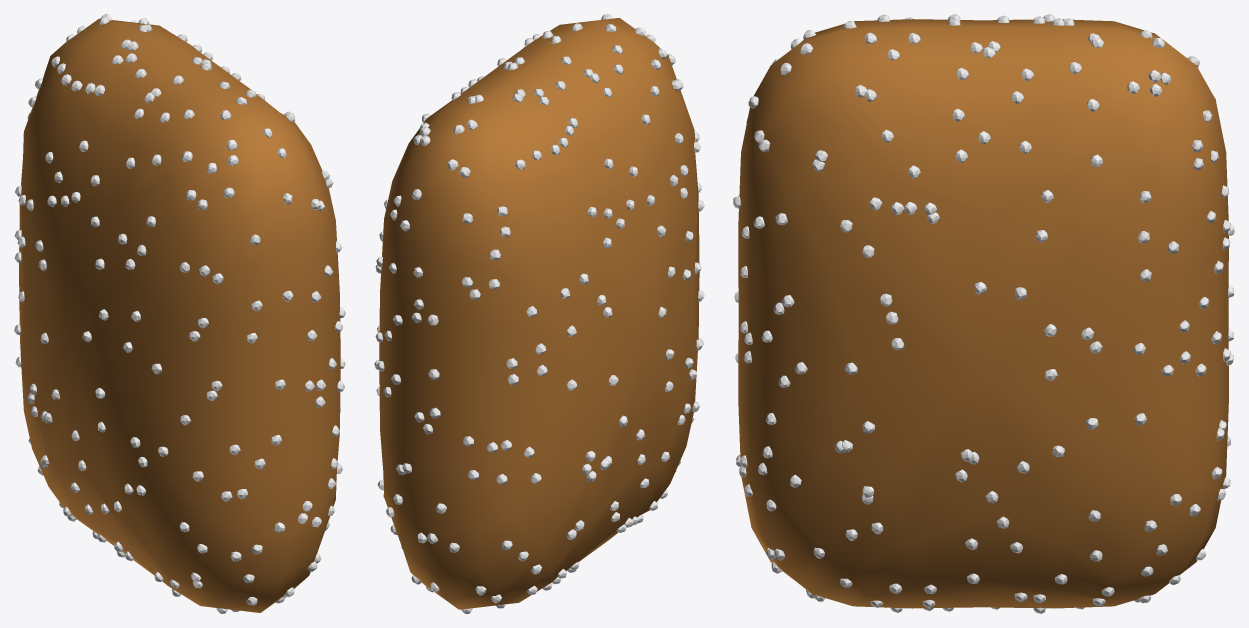
File: Pretzel bite (1).fbx
3 renders of one model, left to right at view 1: azimuth 30°, elevation 25°; view 2: azimuth 150°, elevation 25°; view 3: azimuth 270°, elevation 25°, orthographic. The views are drawn at different scales.
Visible parts, largest first — view 1: Cube.001; view 2: Cube.001; view 3: Cube.001.
Part boxes in pixels (x1,y1,x2,y2): Cube.001: [19, 18, 340, 612]; Cube.001: [379, 18, 699, 609]; Cube.001: [738, 19, 1228, 608].
Size of the model in its own units: 110 by 240 by 189.
